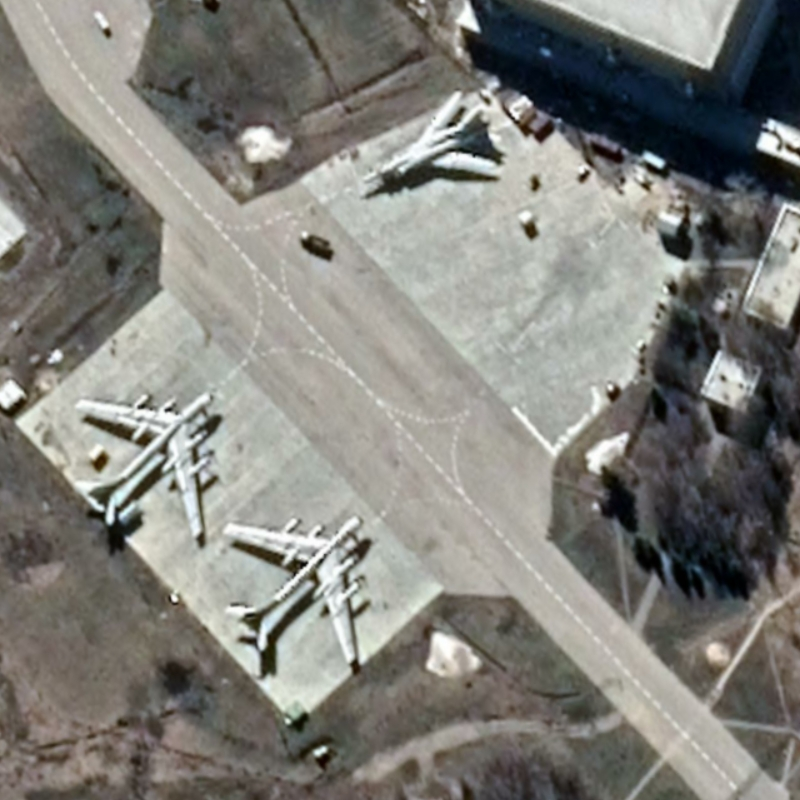A12: (360, 87, 502, 188)
A17: (70, 389, 216, 541), (220, 512, 364, 666)
